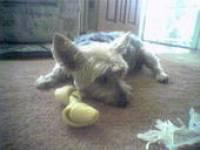dog-yorkshire_terrier: (51, 29, 131, 106)
